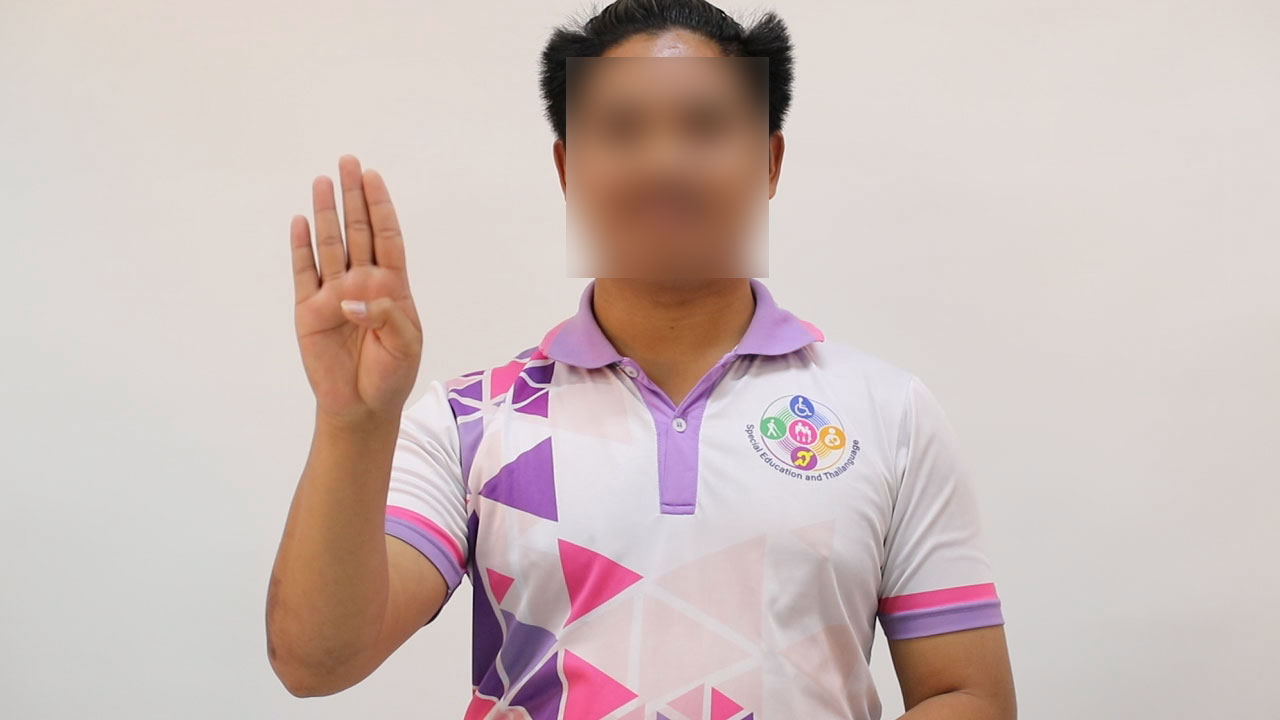bor: (266, 148, 447, 463)
